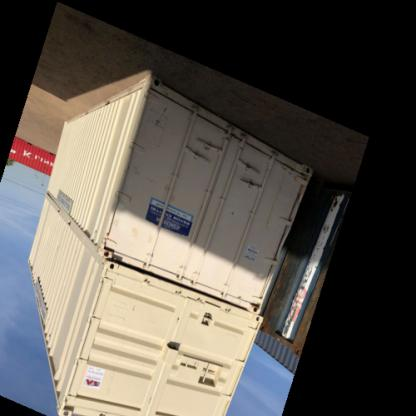Damage: (128, 91, 188, 188), (227, 160, 314, 198)
